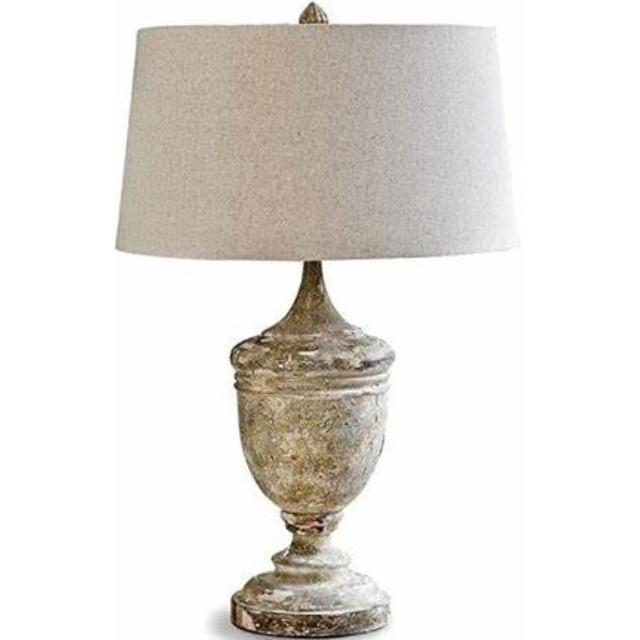lamp: (115, 4, 522, 640)
